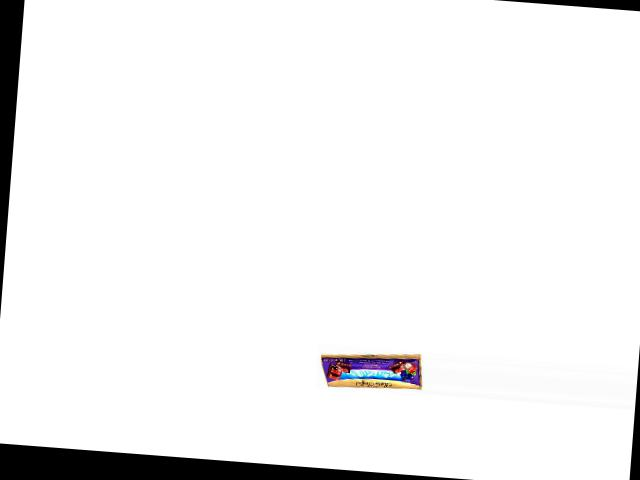chocolate: (314, 346, 424, 389)
